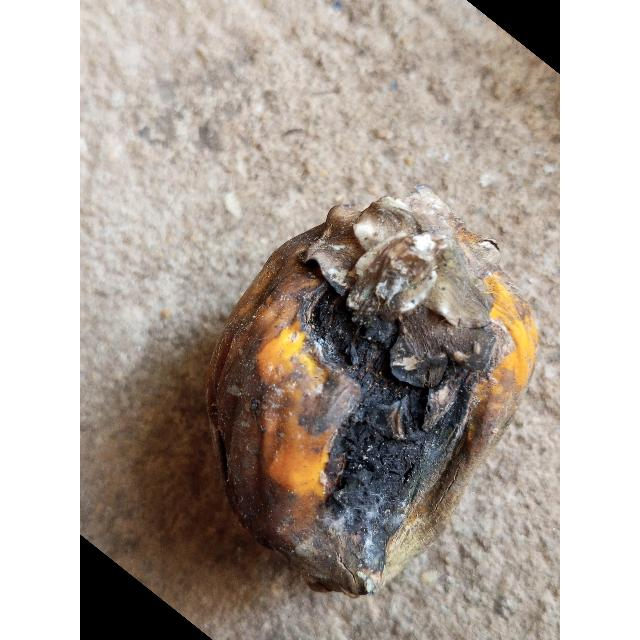damaged: (204, 185, 539, 601)
